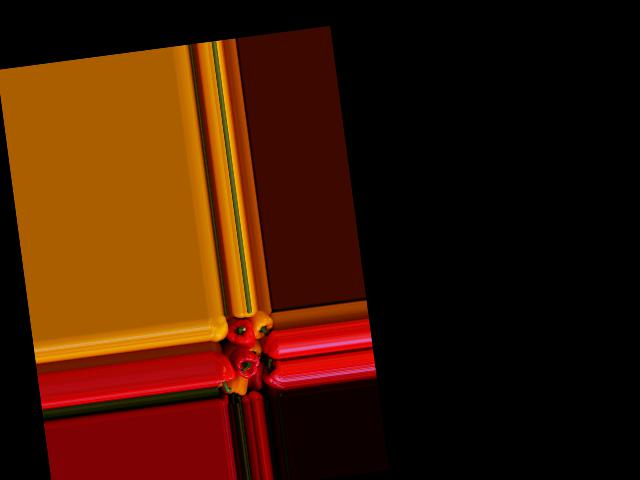bell_pepper: (247, 309, 272, 337)
